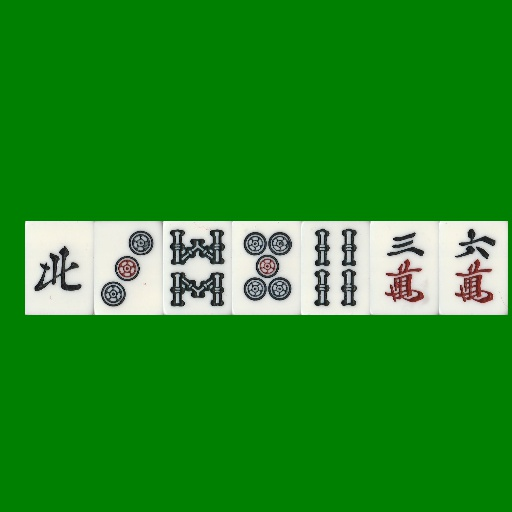3m: (370, 221, 439, 315)
3p: (94, 221, 163, 315)
4s: (301, 221, 370, 315)
5p: (232, 221, 301, 315)
6m: (439, 221, 508, 315)
8s: (163, 221, 232, 315)
north: (25, 221, 94, 315)
